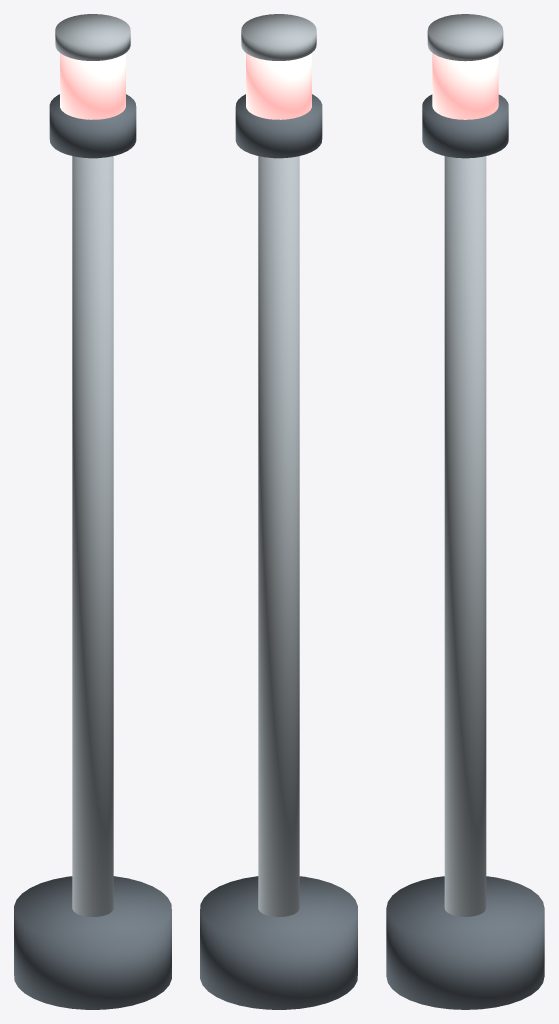
Rendered from alarm_tower_ultra.glb.
The picture shows the model from 3 angles, left to right: view 1: azimuth 30°, elevation 25°; view 2: azimuth 150°, elevation 25°; view 3: azimuth 270°, elevation 25°; orthographic projection.
Visible parts, largest first — view 1: Pole_steel, Base_dark, StatusLight_alarm, Beacon_dark, Beacon_steel; view 2: Pole_steel, Base_dark, StatusLight_alarm, Beacon_dark, Beacon_steel; view 3: Pole_steel, Base_dark, StatusLight_alarm, Beacon_dark, Beacon_steel.
Part boxes in pixels (bbox=[...]): Pole_steel: bbox=[72, 156, 113, 916]; Base_dark: bbox=[14, 876, 171, 1009]; StatusLight_alarm: bbox=[60, 53, 125, 119]; Beacon_dark: bbox=[49, 94, 136, 158]; Beacon_steel: bbox=[55, 14, 130, 60]; Pole_steel: bbox=[258, 156, 299, 916]; Base_dark: bbox=[200, 876, 357, 1009]; StatusLight_alarm: bbox=[246, 53, 311, 119]; Beacon_dark: bbox=[235, 94, 322, 158]; Beacon_steel: bbox=[241, 14, 316, 60]; Pole_steel: bbox=[444, 156, 486, 916]; Base_dark: bbox=[386, 876, 544, 1009]; StatusLight_alarm: bbox=[432, 53, 498, 119]; Beacon_dark: bbox=[422, 94, 508, 158]; Beacon_steel: bbox=[427, 14, 503, 61].
Size of the model in its own units: 0.42 by 2.77 by 0.42.
